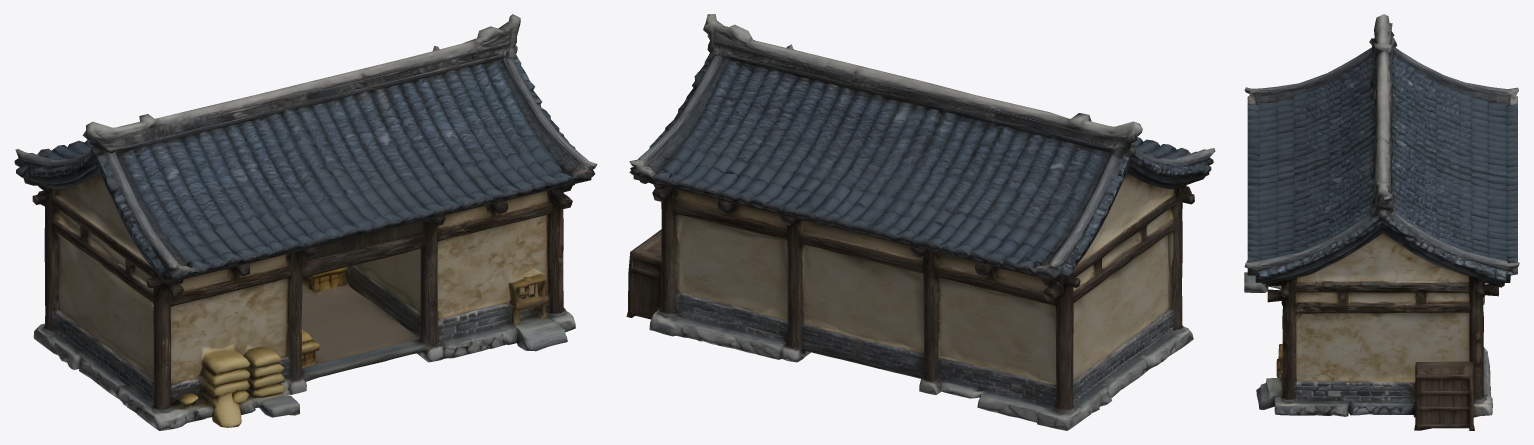
The model's file is warehouse.glb.
3 renders of one model, left to right at view 1: azimuth 30°, elevation 25°; view 2: azimuth 150°, elevation 25°; view 3: azimuth 270°, elevation 25°, orthographic. The views are drawn at different scales.
Visible parts, largest first — view 1: tripo_node_52bbdf37-f834-4c29-a4bf-0eaab3525e26; view 2: tripo_node_52bbdf37-f834-4c29-a4bf-0eaab3525e26; view 3: tripo_node_52bbdf37-f834-4c29-a4bf-0eaab3525e26.
Part boxes in pixels (left/top/right/bottom): tripo_node_52bbdf37-f834-4c29-a4bf-0eaab3525e26: left=14, top=14, right=597, bottom=430; tripo_node_52bbdf37-f834-4c29-a4bf-0eaab3525e26: left=626, top=14, right=1215, bottom=430; tripo_node_52bbdf37-f834-4c29-a4bf-0eaab3525e26: left=1244, top=14, right=1519, bottom=430.
Bounding box in the file's own units: 1 × 0.5606 × 0.607.
1 material, 1 textured.
